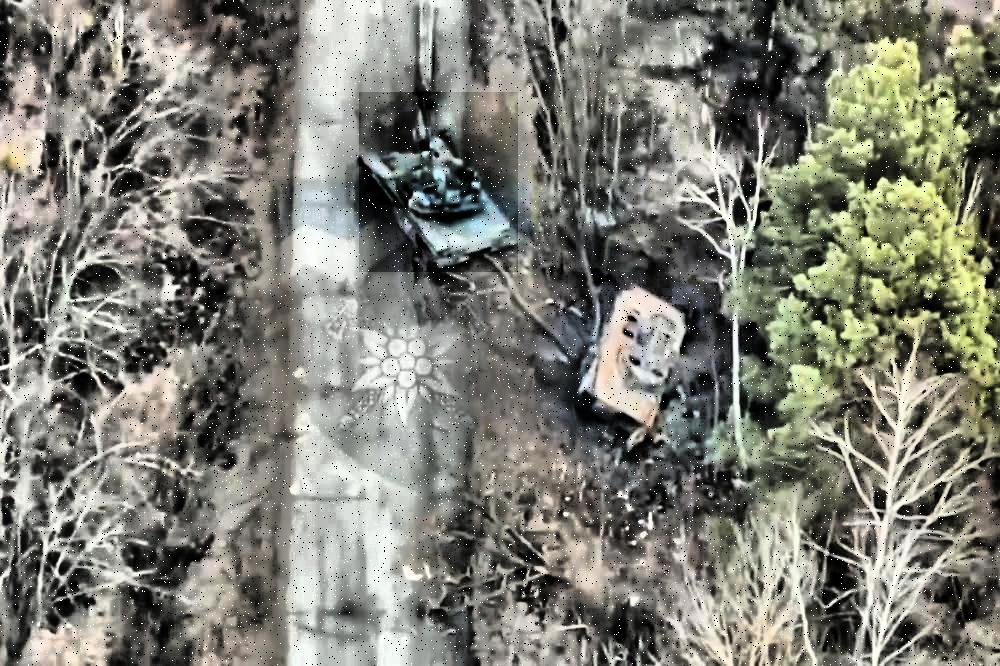military-vehicle: (360, 92, 519, 272)
